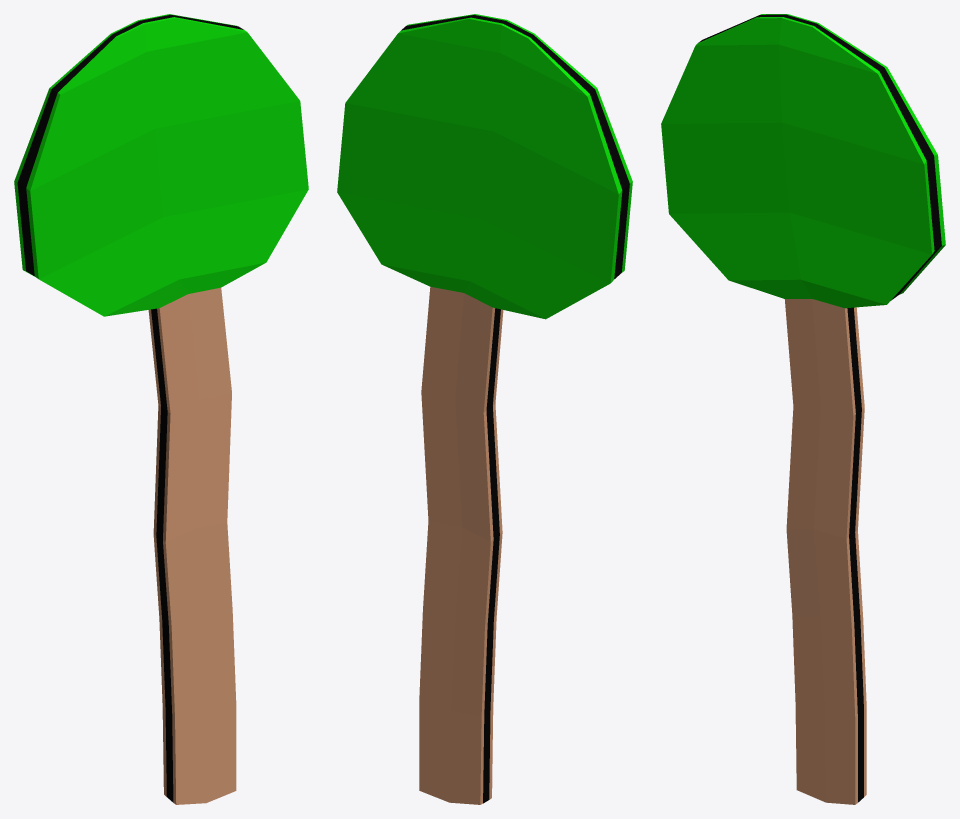
The model's file is CardboardTree01.fbx.
The picture shows the model from 3 angles, left to right: view 1: azimuth 30°, elevation 25°; view 2: azimuth 150°, elevation 25°; view 3: azimuth 330°, elevation 25°; orthographic projection. The views are drawn at different scales.
Visible parts, largest first — view 1: Cube.001; view 2: Cube.001; view 3: Cube.001.
Boxes of the visible parts, x1=… form: Cube.001: x1=14, y1=14, x2=308, y2=804; Cube.001: x1=337, y1=14, x2=632, y2=804; Cube.001: x1=661, y1=14, x2=945, y2=804.
Size of the model in its own units: 408 by 1097 by 47.36.
